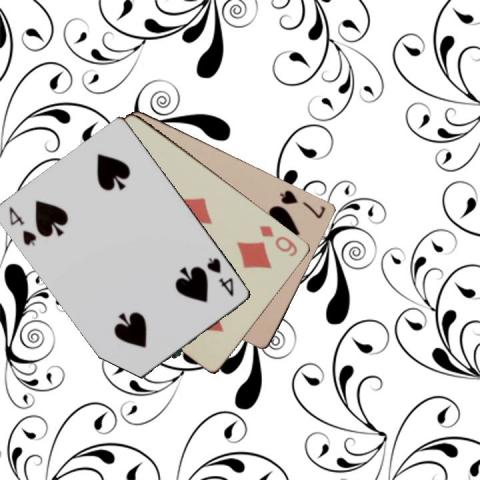4s: (6, 204, 39, 248), (204, 255, 236, 298)
6d: (257, 222, 299, 258)
7s: (277, 187, 327, 220)
